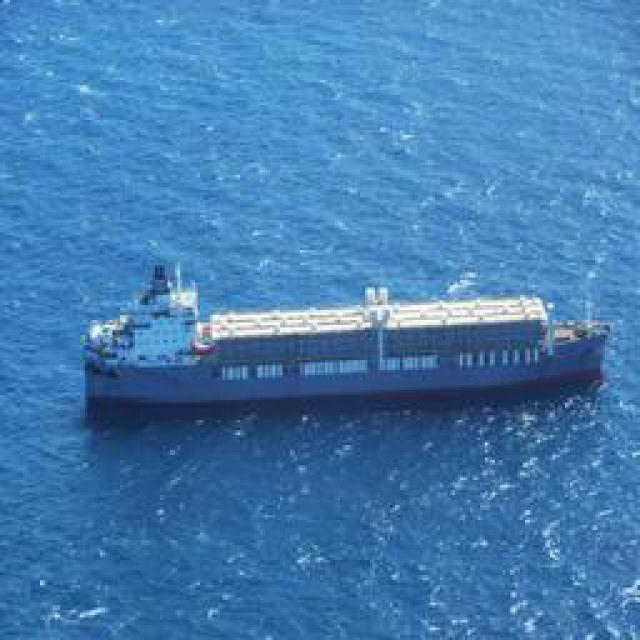Ship: (82, 257, 585, 415)
